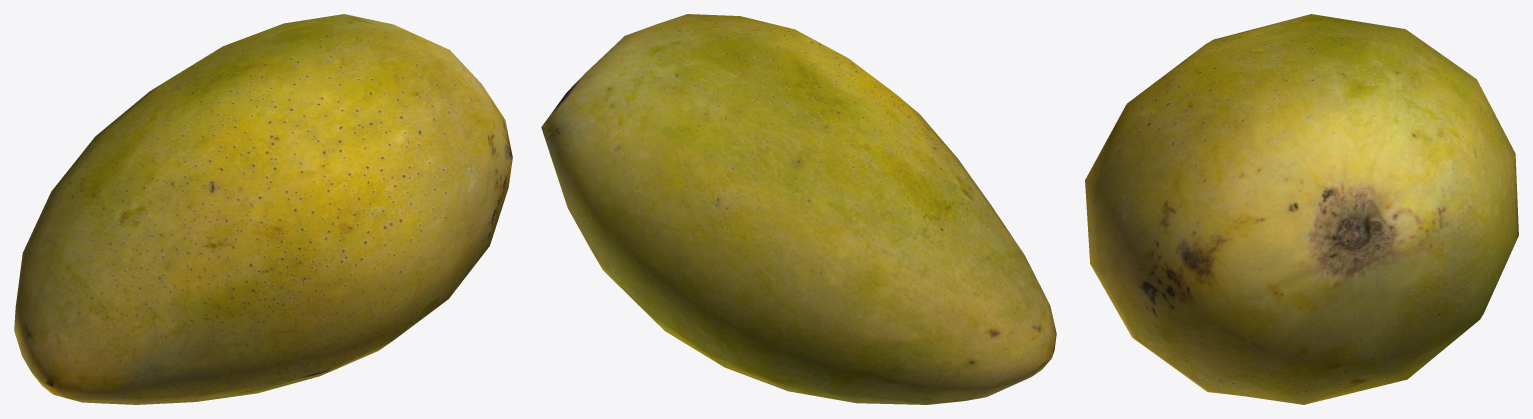
Rendered from A130_Mango_low.fbx.
3 renders of one model, left to right at view 1: azimuth 30°, elevation 25°; view 2: azimuth 150°, elevation 25°; view 3: azimuth 270°, elevation 25°, orthographic. The views are drawn at different scales.
Parts seen in each view (by area): view 1: A130_Mango_low; view 2: A130_Mango_low; view 3: A130_Mango_low.
Part boxes in pixels (x1=…): A130_Mango_low: x1=14, y1=14, x2=512, y2=404; A130_Mango_low: x1=541, y1=14, x2=1056, y2=404; A130_Mango_low: x1=1085, y1=14, x2=1518, y2=404.
Bounding box in the file's own units: 13.8 × 9.4 × 9.01.
1 material, 1 textured.
